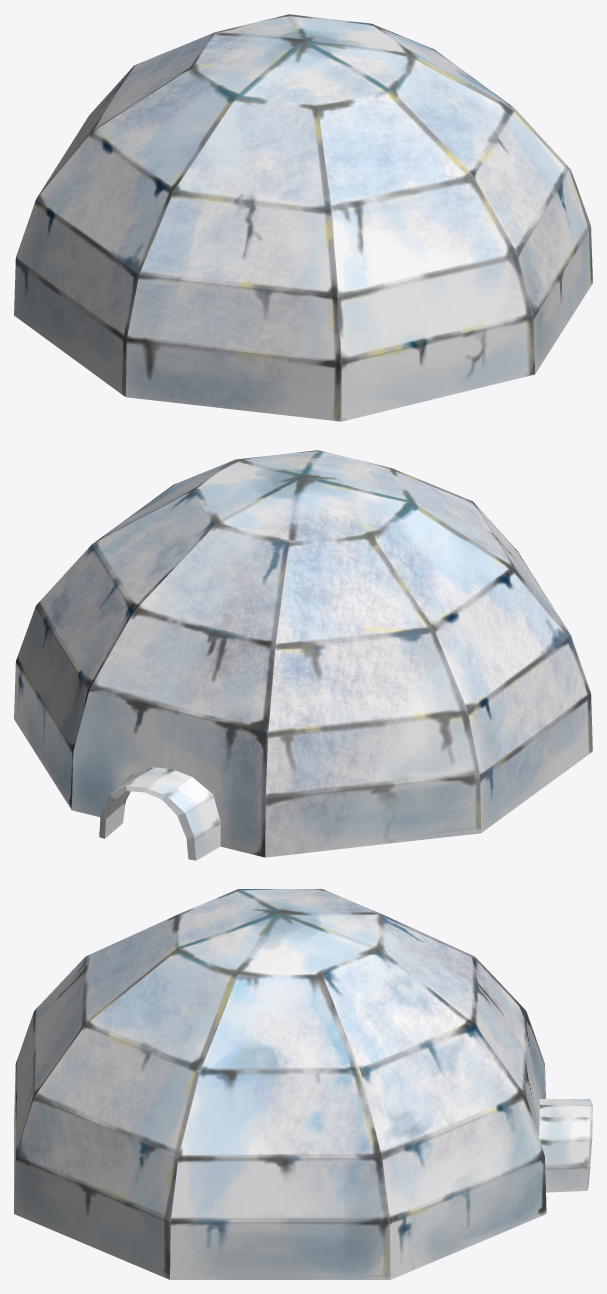
The model's file is Igroo1.fbx.
3 renders of one model, top to bottom at view 1: azimuth 30°, elevation 25°; view 2: azimuth 150°, elevation 25°; view 3: azimuth 270°, elevation 25°, orthographic.
Parts seen in each view (by area): view 1: pSphere1; view 2: pSphere1; view 3: pSphere1.
Boxes of the visible parts, x1,y1,x2,y2 form: pSphere1: (14, 14, 592, 421); pSphere1: (14, 450, 592, 860); pSphere1: (14, 889, 592, 1279).
Size of the model in its own units: 16.56 by 8.76 by 18.
